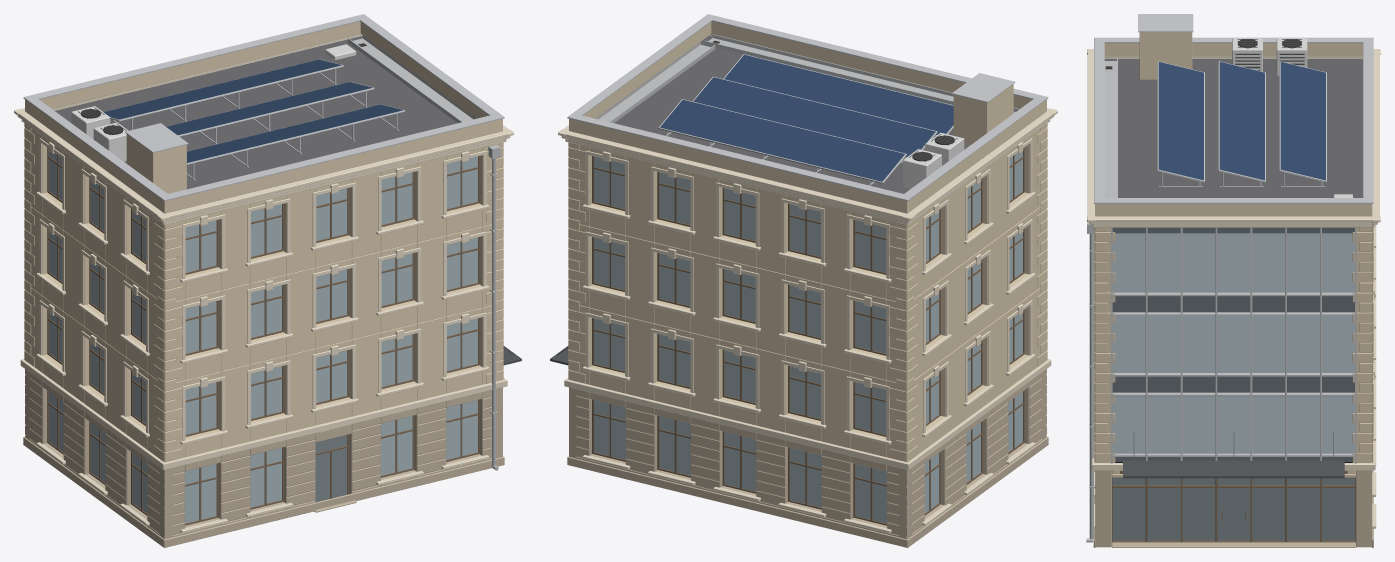
The model's file is building.glb.
3 renders of one model, left to right at view 1: azimuth 30°, elevation 25°; view 2: azimuth 150°, elevation 25°; view 3: azimuth 270°, elevation 25°, orthographic.
Parts seen in each view (by area): view 1: Building; view 2: Building; view 3: Building.
Boxes of the visible parts, x1,y1,x2,y2 form: Building: (14,14,521,547); Building: (550,14,1057,547); Building: (1086,14,1380,547).
Bounding box in the file's own units: 15.65 × 14.9 × 10.63.
